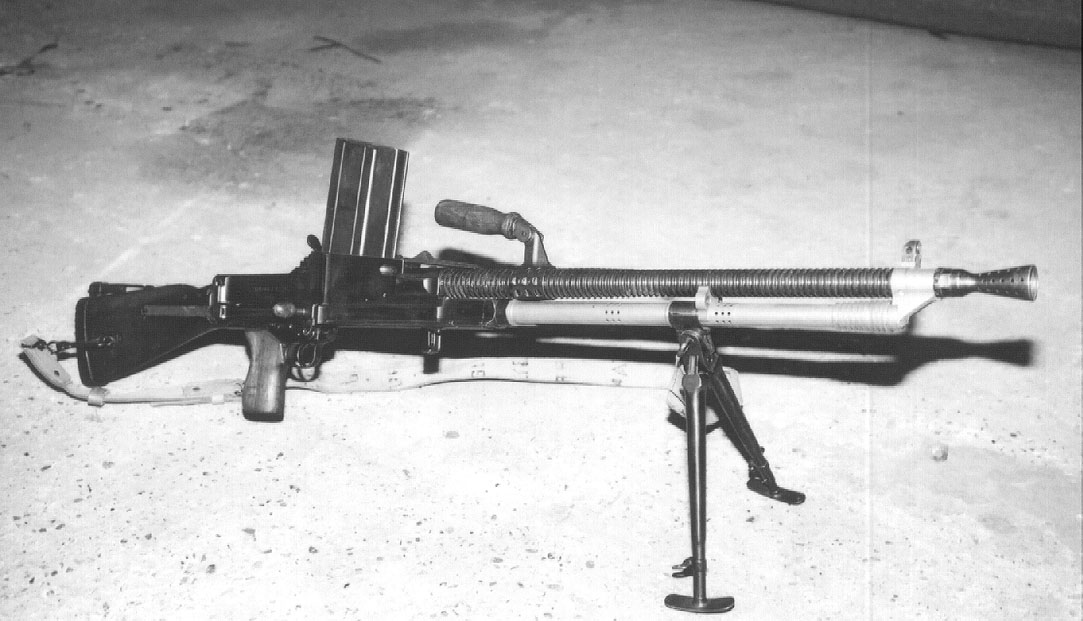rifle: (36, 141, 1061, 609)
